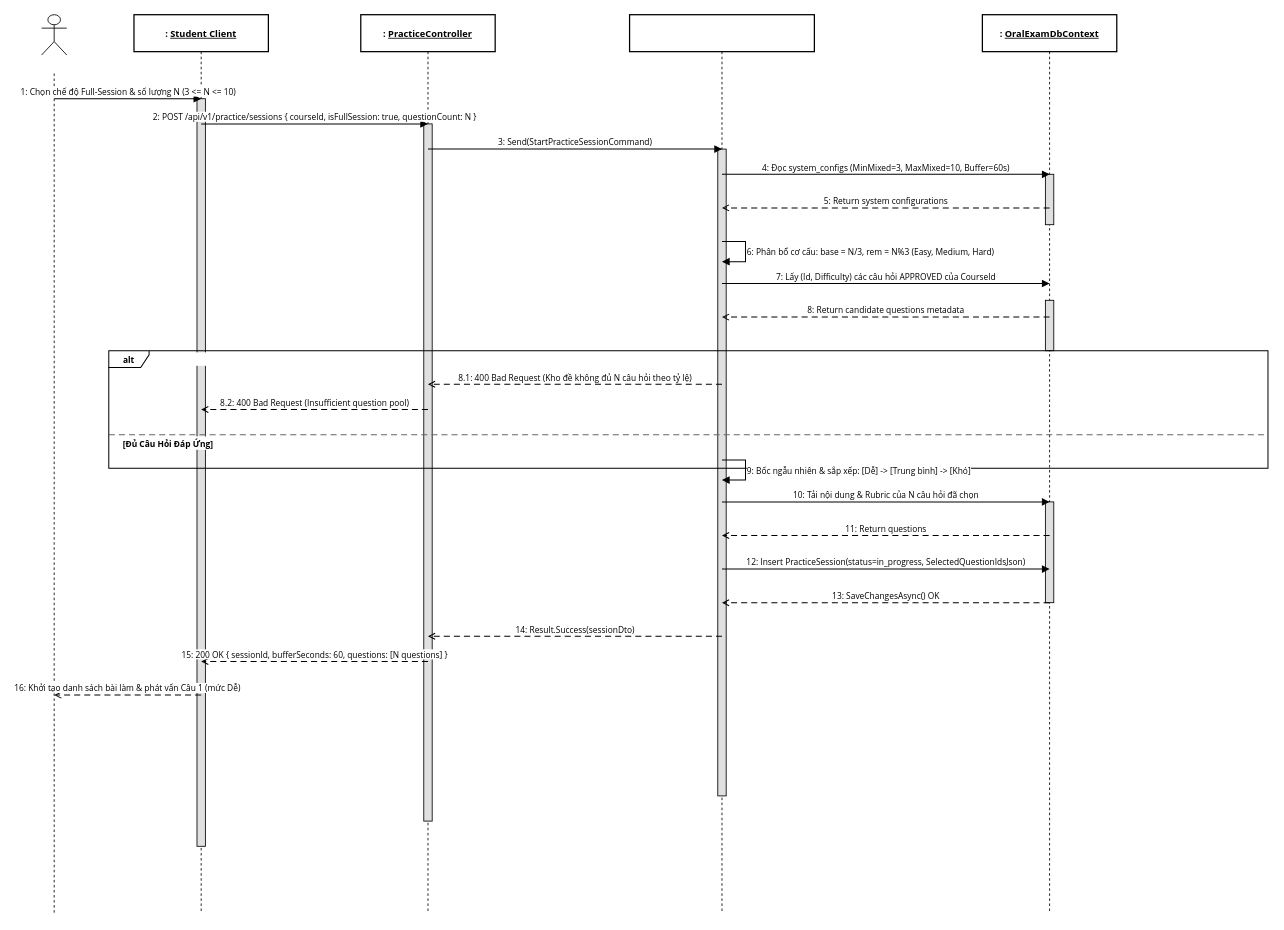
The diagram is 1284 pixels wide and 930 high, and some of its shapes have lost their labels. Here are the shapes that lost their labels. From the top down, the centre of each, then its label:
At point (54, 34): ": Sinh viên".
At point (722, 33): ": StartPracticeSessionCommandHandler".
At point (231, 358): "[Kho Đề Không Đủ Câu Hỏi]".
